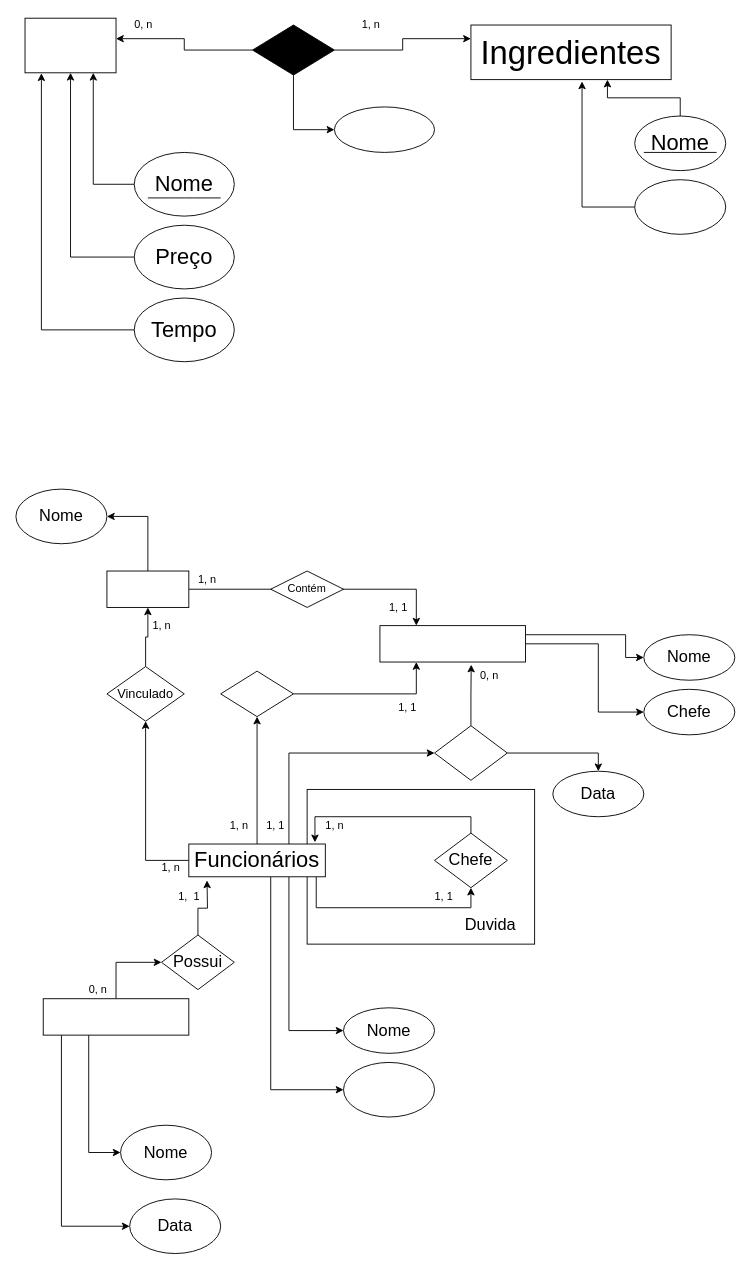
This 751x1269 diagram has some shape labels left out. Each missing label, with the centre of its shape:
"Chefia" belongs at point (470, 752).
"Departamento" belongs at point (452, 643).
"Dependentes" belongs at point (115, 1016).
"Lotado" belongs at point (256, 693).
"Prato" belongs at point (70, 45).
"Projeto" belongs at point (147, 588).
"Quantidade" belongs at point (384, 129).
"Telefone" belongs at point (389, 1089).
"U.M" belongs at point (680, 206).
